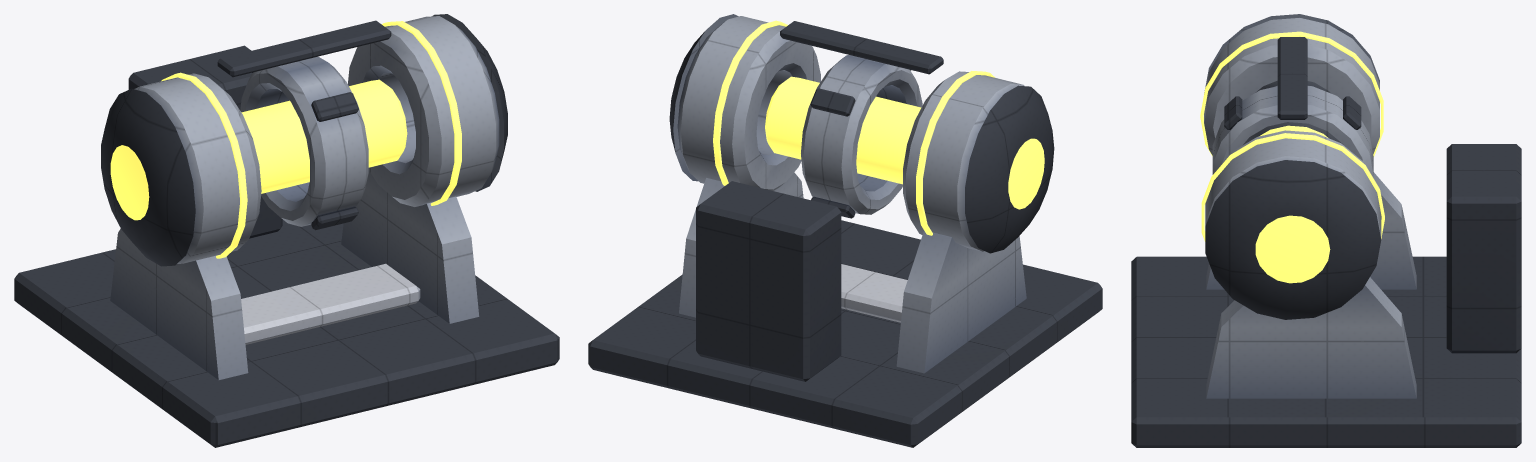
The model's file is R4X_Battery_LOD1.glb.
3 renders of one model, left to right at view 1: azimuth 30°, elevation 25°; view 2: azimuth 150°, elevation 25°; view 3: azimuth 270°, elevation 25°, orthographic. The views are drawn at different scales.
Parts seen in each view (by area): view 1: R4X_Battery_LOD1; view 2: R4X_Battery_LOD1; view 3: R4X_Battery_LOD1.
Part boxes in pixels (x1,y1,x2,y2): R4X_Battery_LOD1: (14,14,559,447); R4X_Battery_LOD1: (588,14,1102,447); R4X_Battery_LOD1: (1131,14,1521,447).
Bounding box in the file's own units: 0.52 × 0.432 × 0.52.
Materials: 4 (3 with a texture image).
